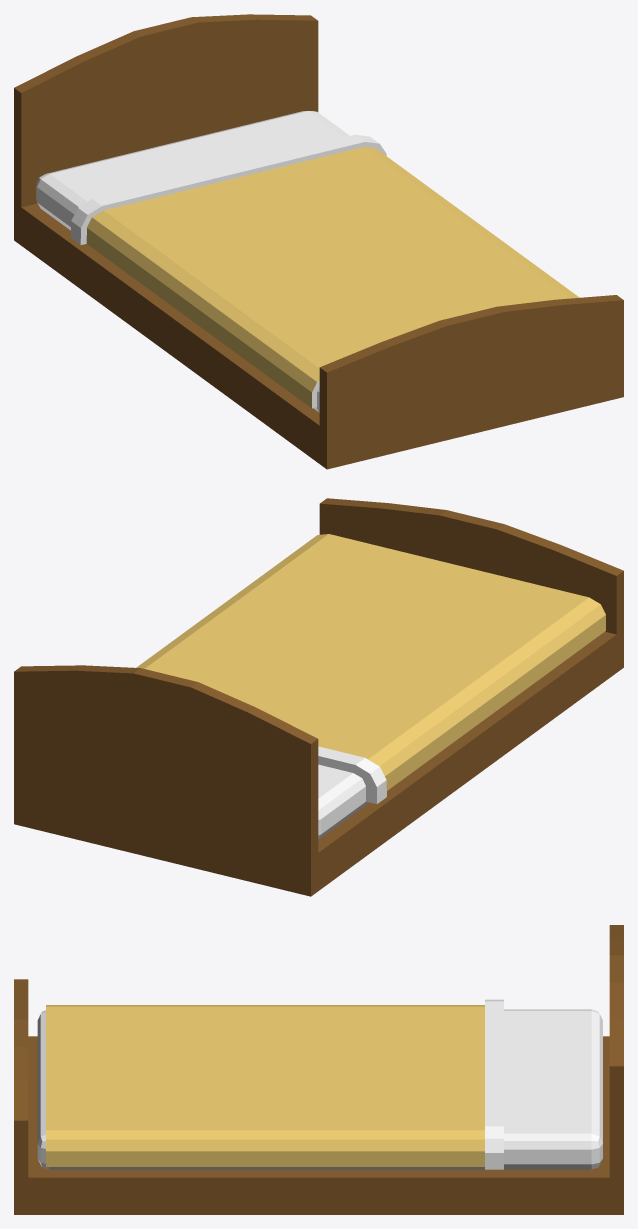
File: Single Bed.fbx
The picture shows the model from 3 angles, top to bottom: view 1: azimuth 30°, elevation 25°; view 2: azimuth 150°, elevation 25°; view 3: azimuth 270°, elevation 25°; orthographic projection. The views are drawn at different scales.
Visible parts, largest first — view 1: Single Bed; view 2: Single Bed; view 3: Single Bed.
Part boxes in pixels (left/top/right/bottom): Single Bed: left=14, top=14, right=623, bottom=469; Single Bed: left=14, top=498, right=623, bottom=896; Single Bed: left=14, top=925, right=623, bottom=1214.
Bounding box in the file's own units: 1.27 × 0.7117 × 2.24.
